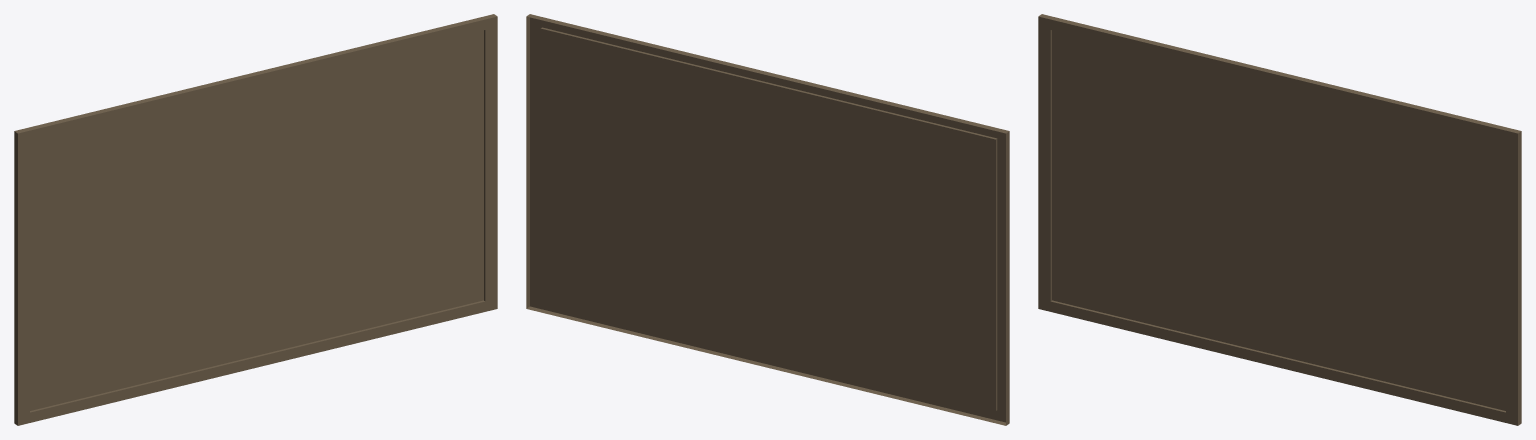
The model's file is Pinboard.fbx.
3 views of the same model, side by side, from view 1: azimuth 30°, elevation 25°; view 2: azimuth 150°, elevation 25°; view 3: azimuth 330°, elevation 25° (orthographic).
Parts seen in each view (by area): view 1: Plane.001; view 2: Plane.001; view 3: Plane.001.
Part boxes in pixels (box(x1,y1,x2,y2)): Plane.001: box(14, 14, 497, 425); Plane.001: box(526, 14, 1009, 425); Plane.001: box(1038, 14, 1521, 425).
Size of the model in its own units: 240 by 140 by 3.
